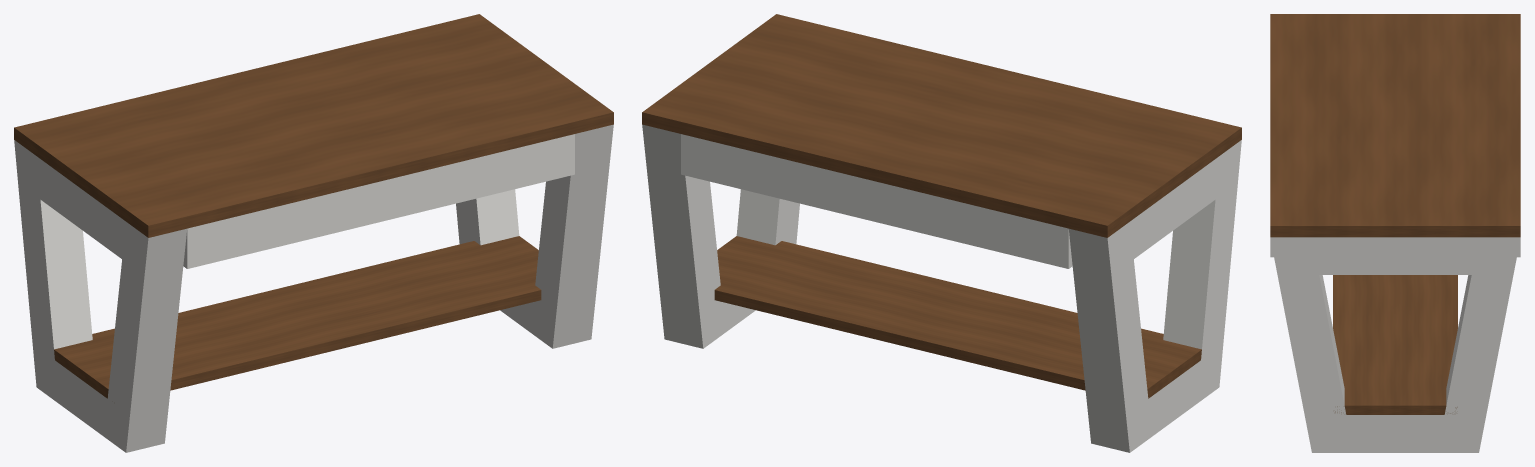
The model's file is mesa-living-nord-estante-nogal-blanco-10cm.glb.
3 renders of one model, left to right at view 1: azimuth 30°, elevation 25°; view 2: azimuth 150°, elevation 25°; view 3: azimuth 270°, elevation 25°, orthographic. The views are drawn at different scales.
Parts seen in each view (by area): view 1: Tapa de madera maciza 120 x 60 x 3 cm, Patas inclinadas con cortes a inglete, Estante inferior de madera de 120 cm (proporción aproximada), Larguero longitudinal superior de hierro 10 x 10 mm, Travesaño superior del trapecio, perfil 10 cm, Travesaño inferior del trapecio, perfil 10 cm; view 2: Tapa de madera maciza 120 x 60 x 3 cm, Patas inclinadas con cortes a inglete, Estante inferior de madera de 120 cm (proporción aproximada), Larguero longitudinal superior de hierro 10 x 10 mm, Travesaño superior del trapecio, perfil 10 cm, Travesaño inferior del trapecio, perfil 10 cm (×2); view 3: Tapa de madera maciza 120 x 60 x 3 cm, Patas inclinadas con cortes a inglete, Estante inferior de madera de 120 cm (proporción aproximada), Travesaño superior del trapecio, perfil 10 cm, Travesaño inferior del trapecio, perfil 10 cm.
Part boxes in pixels (x1,y1,x2,y2): Tapa de madera maciza 120 x 60 x 3 cm: [14, 14, 613, 237]; Patas inclinadas con cortes a inglete: [14, 124, 613, 452]; Estante inferior de madera de 120 cm (proporción aproximada): [54, 236, 541, 398]; Larguero longitudinal superior de hierro 10 x 10 mm: [183, 134, 574, 268]; Travesaño superior del trapecio, perfil 10 cm: [36, 156, 137, 269]; Travesaño inferior del trapecio, perfil 10 cm: [55, 360, 114, 438]; Tapa de madera maciza 120 x 60 x 3 cm: [642, 14, 1241, 237]; Patas inclinadas con cortes a inglete: [642, 124, 1241, 452]; Estante inferior de madera de 120 cm (proporción aproximada): [714, 236, 1201, 398]; Larguero longitudinal superior de hierro 10 x 10 mm: [681, 134, 1072, 268]; Travesaño superior del trapecio, perfil 10 cm: [1118, 149, 1230, 268]; Travesaño inferior del trapecio, perfil 10 cm (×2): [715, 300, 1200, 436]; Tapa de madera maciza 120 x 60 x 3 cm: [1270, 14, 1520, 237]; Patas inclinadas con cortes a inglete: [1270, 237, 1520, 452]; Estante inferior de madera de 120 cm (proporción aproximada): [1333, 275, 1457, 414]; Travesaño superior del trapecio, perfil 10 cm: [1291, 237, 1499, 274]; Travesaño inferior del trapecio, perfil 10 cm: [1333, 415, 1457, 452].
Bounding box in the file's own units: 1.2 × 0.6 × 0.6.
2 materials, 1 textured.
